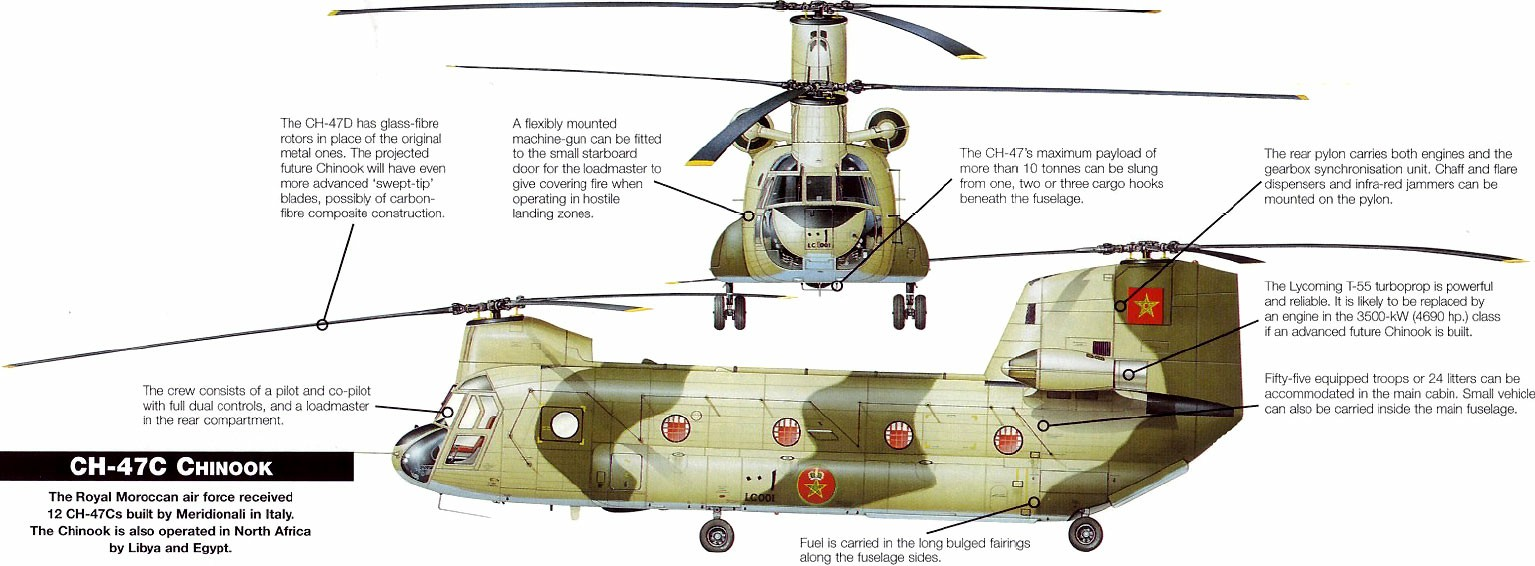chinook: (358, 238, 1318, 566), (652, 1, 999, 337)
